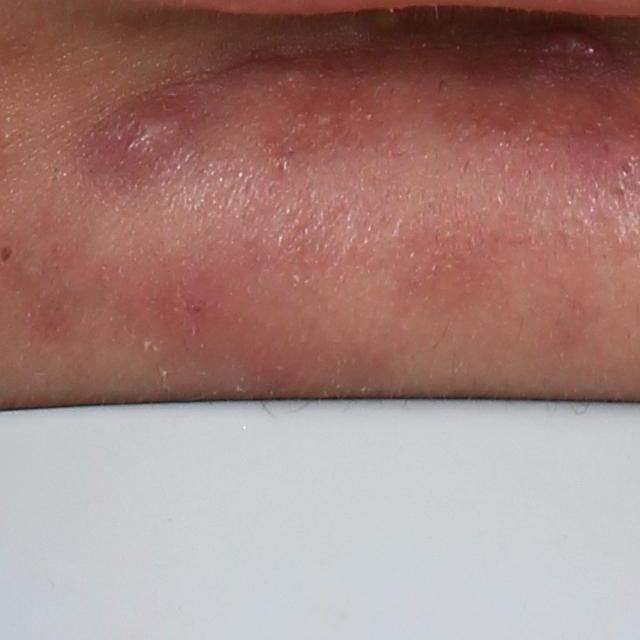nevus: (0, 244, 15, 263)
papule: (81, 89, 211, 182), (519, 23, 627, 76)
